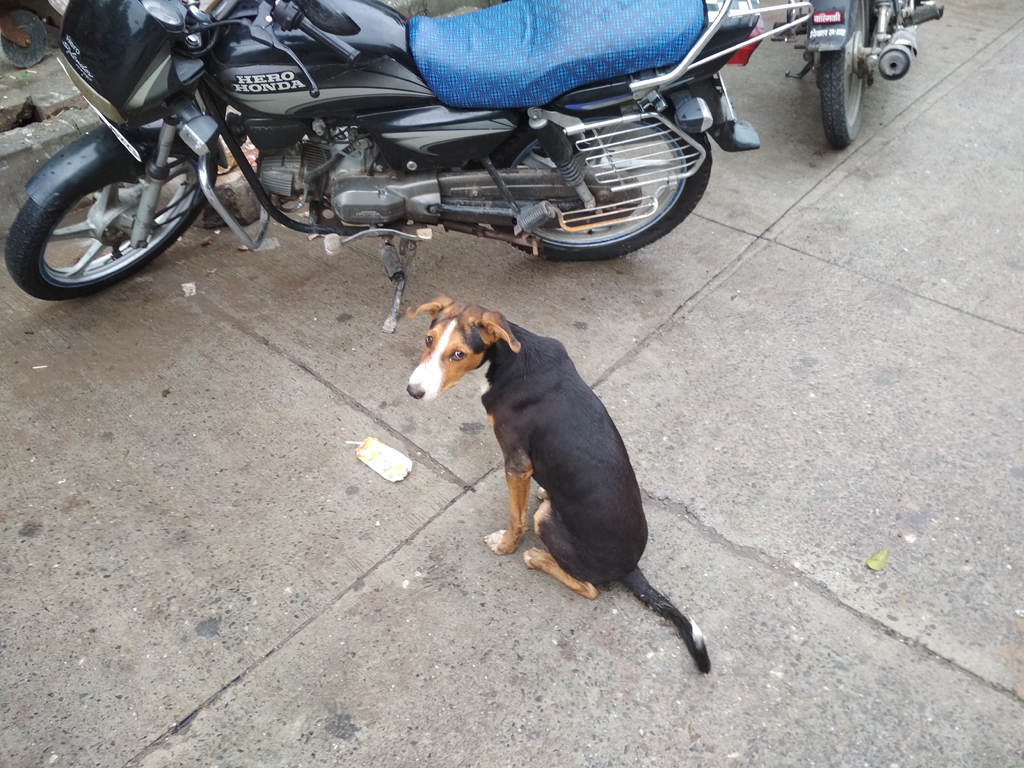dog: (406, 293, 712, 678)
